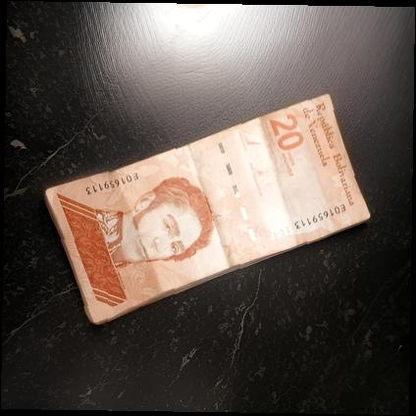twenty-front-vef: (44, 92, 371, 325)
